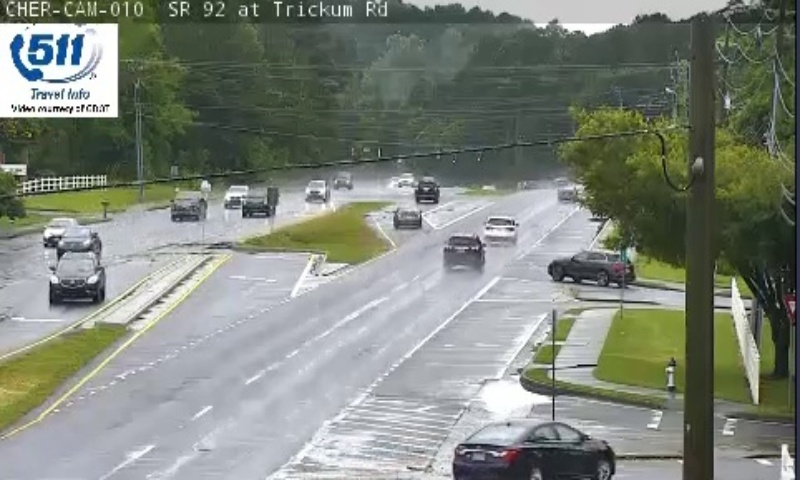car: (443, 232, 482, 265), (484, 214, 516, 241), (393, 205, 421, 227)
